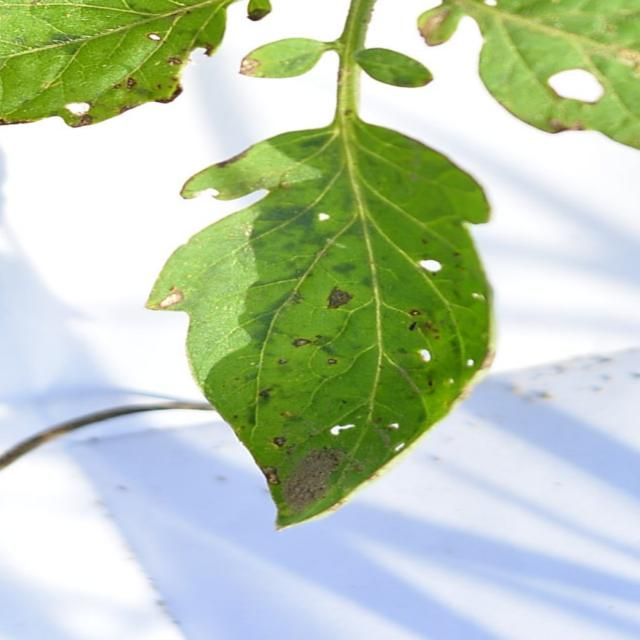infected: (155, 174, 489, 530), (48, 32, 217, 128), (524, 58, 627, 124), (406, 0, 477, 51), (237, 52, 267, 86)
